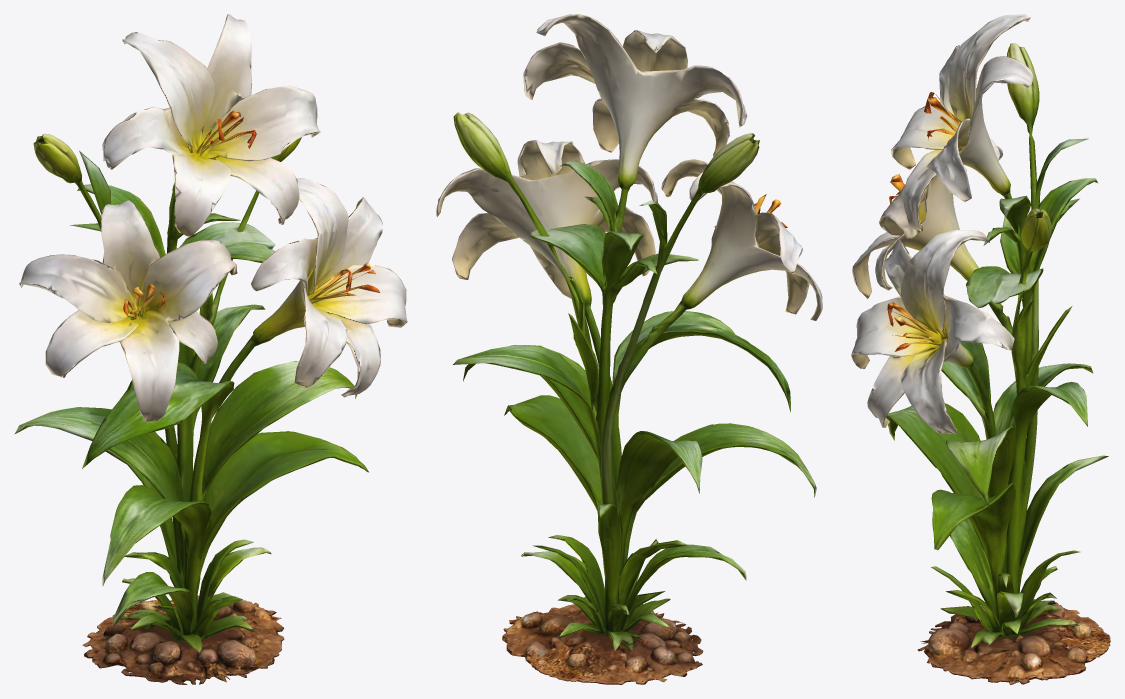
The model's file is lilies.glb.
3 views of the same model, side by side, from view 1: azimuth 30°, elevation 25°; view 2: azimuth 150°, elevation 25°; view 3: azimuth 270°, elevation 25° (orthographic). The views are drawn at different scales.
Parts seen in each view (by area): view 1: tripo_node_b24abb40-07d2-47b6-ab32-808ea40d4247; view 2: tripo_node_b24abb40-07d2-47b6-ab32-808ea40d4247; view 3: tripo_node_b24abb40-07d2-47b6-ab32-808ea40d4247.
Boxes of the visible parts, bbox=[...] form: tripo_node_b24abb40-07d2-47b6-ab32-808ea40d4247: bbox=[14, 14, 407, 684]; tripo_node_b24abb40-07d2-47b6-ab32-808ea40d4247: bbox=[436, 14, 822, 684]; tripo_node_b24abb40-07d2-47b6-ab32-808ea40d4247: bbox=[851, 14, 1110, 684].
Bounding box in the file's own units: 0.601 × 0.9807 × 0.3791.
1 material, 1 textured.
